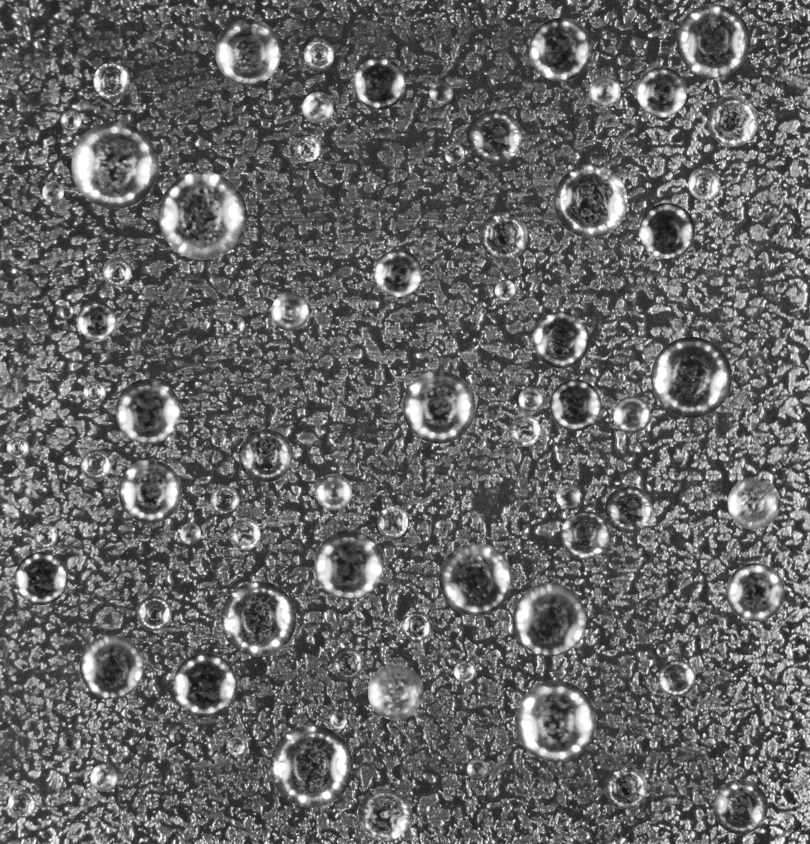Bubble: (158, 171, 246, 259), (71, 121, 158, 208), (270, 725, 352, 807), (651, 336, 732, 417), (515, 680, 596, 761), (220, 581, 296, 656), (676, 3, 750, 77), (512, 583, 586, 656), (554, 164, 627, 237), (402, 370, 475, 443), (439, 543, 512, 615), (314, 530, 383, 599), (214, 18, 281, 85), (115, 378, 180, 443), (118, 459, 182, 523), (173, 653, 237, 717), (79, 635, 143, 698), (529, 17, 592, 81), (726, 563, 784, 621), (532, 311, 589, 368), (367, 664, 423, 720), (639, 202, 695, 258), (713, 779, 768, 834), (467, 109, 521, 164), (238, 428, 292, 482), (14, 552, 67, 605), (358, 787, 411, 840), (727, 477, 780, 529), (549, 379, 601, 431), (353, 57, 405, 109), (636, 66, 687, 117), (707, 95, 758, 146), (561, 511, 609, 559), (480, 212, 528, 260), (374, 249, 422, 296), (605, 485, 652, 533), (605, 766, 647, 809), (271, 292, 309, 330), (77, 301, 115, 339), (613, 396, 650, 433), (658, 659, 695, 696), (93, 62, 130, 99), (315, 474, 352, 510), (136, 596, 171, 631), (688, 167, 721, 200), (508, 414, 540, 446), (228, 518, 260, 550), (332, 647, 364, 679), (589, 75, 620, 107), (80, 449, 111, 480), (302, 92, 333, 123), (377, 506, 408, 537), (303, 39, 334, 70), (210, 485, 239, 515), (401, 611, 430, 641), (102, 257, 131, 286), (7, 790, 35, 817), (90, 764, 117, 791), (295, 136, 320, 161), (518, 387, 543, 411), (429, 80, 453, 104), (556, 484, 580, 508), (34, 524, 57, 547), (83, 380, 105, 403), (6, 436, 28, 459), (453, 660, 475, 682), (494, 279, 516, 301), (58, 731, 80, 753), (42, 181, 63, 203), (467, 758, 488, 780), (60, 110, 81, 131), (180, 523, 200, 544), (444, 144, 465, 164), (225, 315, 244, 334), (226, 736, 245, 755), (329, 712, 347, 729), (646, 270, 662, 287), (211, 432, 226, 446), (58, 305, 72, 319), (656, 644, 669, 657)
